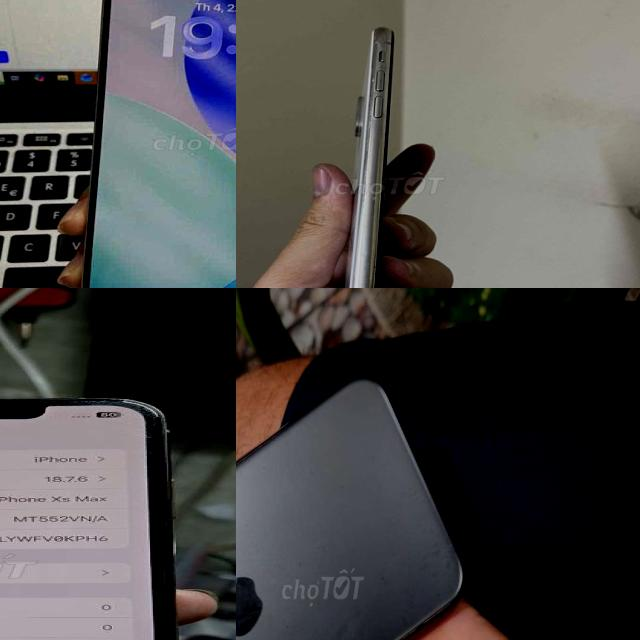scratch: (371, 40, 401, 51)
